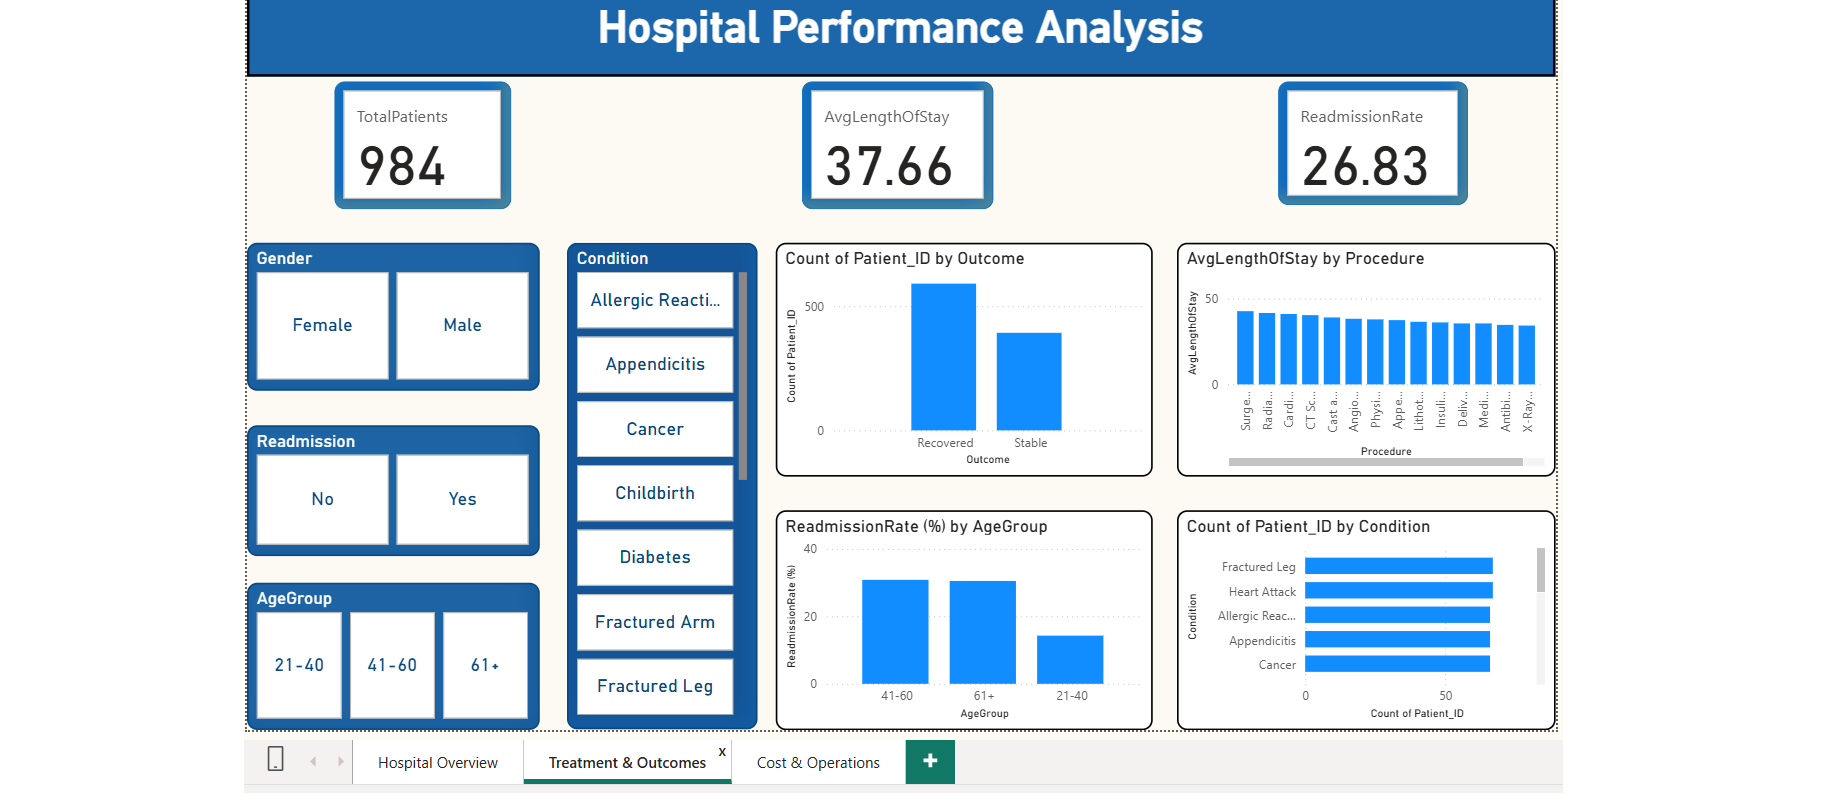

Layout of this report page (visuals, bound fields, positions):
{"tool":"powerbi","page":{"name":"Treatment & Outcomes","canvas":[1280,720],"ordinal":1},"visuals":[{"type":"columnChart","fields":{"Category":["HospitalData.Procedure"],"Y":["HospitalData.AvgLengthOfStay"]},"box":[910,243.8,370,228.8],"z":0},{"type":"barChart","fields":{"Category":["HospitalData.Condition"],"Y":["CountNonNull(HospitalData.Patient_ID)"]},"box":[910,505,370,215],"z":1000},{"type":"columnChart","fields":{"Category":["HospitalData.Outcome"],"Y":["CountNonNull(HospitalData.Patient_ID)"]},"box":[517.5,243.8,368.8,228.8],"z":2000},{"type":"clusteredColumnChart","fields":{"Category":["HospitalData.AgeGroup"],"Y":["HospitalData.ReadmissionRate (%)"]},"box":[517.5,505,368.8,215],"z":3000},{"type":"advancedSlicerVisual","fields":{"Values":["HospitalData.AgeGroup"]},"box":[0,576.3,286.8,144.1],"z":4000},{"type":"advancedSlicerVisual","fields":{"Values":["HospitalData.Readmission"]},"box":[0,421.3,286.8,127.6],"z":5000},{"type":"advancedSlicerVisual","fields":{"Values":["HospitalData.Gender"]},"box":[0,243.8,286.2,145],"z":6000},{"type":"cardVisual","fields":{"Data":["HospitalData.AvgLengthOfStay"]},"box":[542.9,85.6,187.1,124.7],"z":7000},{"type":"cardVisual","fields":{"Data":["HospitalData.ReadmissionRate"]},"box":[1008.8,85.6,185.9,121.1],"z":8000},{"type":"cardVisual","fields":{"Data":["HospitalData.TotalPatients"]},"box":[85.1,85.1,172.9,124.9],"z":9000},{"type":"textbox","box":[0,0,1280.3,81],"z":10000},{"type":"advancedSlicerVisual","fields":{"Values":["HospitalData.Condition"]},"box":[312.5,243.8,186.2,476.2],"z":11000}]}

Visuals, with their boxes on the page's 1280x720 design canvas (x1, y1, x2, y2). These are canvas units, not pixel positions in the 1838x798 screenshot, which may show the page scaled, cropped or inside an application window:
columnChart - HospitalData.Procedure x HospitalData.AvgLengthOfStay: x1=910, y1=244, x2=1280, y2=473
barChart - HospitalData.Condition x CountNonNull(HospitalData.Patient_ID): x1=910, y1=505, x2=1280, y2=720
columnChart - HospitalData.Outcome x CountNonNull(HospitalData.Patient_ID): x1=518, y1=244, x2=886, y2=473
clusteredColumnChart - HospitalData.AgeGroup x HospitalData.ReadmissionRate (%): x1=518, y1=505, x2=886, y2=720
advancedSlicerVisual - HospitalData.AgeGroup: x1=0, y1=576, x2=287, y2=720
advancedSlicerVisual - HospitalData.Readmission: x1=0, y1=421, x2=287, y2=549
advancedSlicerVisual - HospitalData.Gender: x1=0, y1=244, x2=286, y2=389
cardVisual - HospitalData.AvgLengthOfStay: x1=543, y1=86, x2=730, y2=210
cardVisual - HospitalData.ReadmissionRate: x1=1009, y1=86, x2=1195, y2=207
cardVisual - HospitalData.TotalPatients: x1=85, y1=85, x2=258, y2=210
textbox: x1=0, y1=0, x2=1280, y2=81
advancedSlicerVisual - HospitalData.Condition: x1=312, y1=244, x2=499, y2=720
